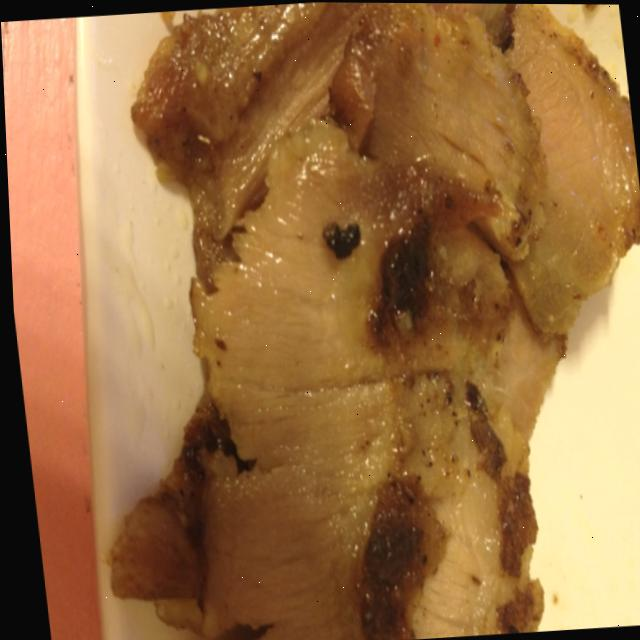猪肉菜式: (116, 1, 640, 640)
